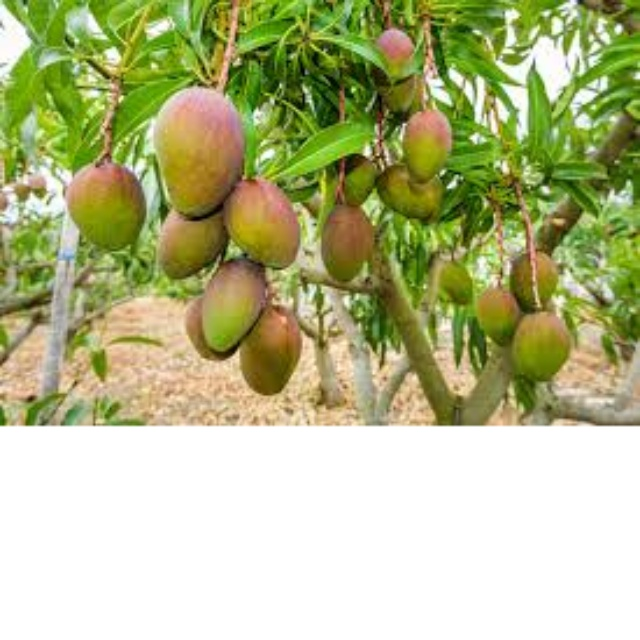thanh_long: (145, 75, 256, 218)
